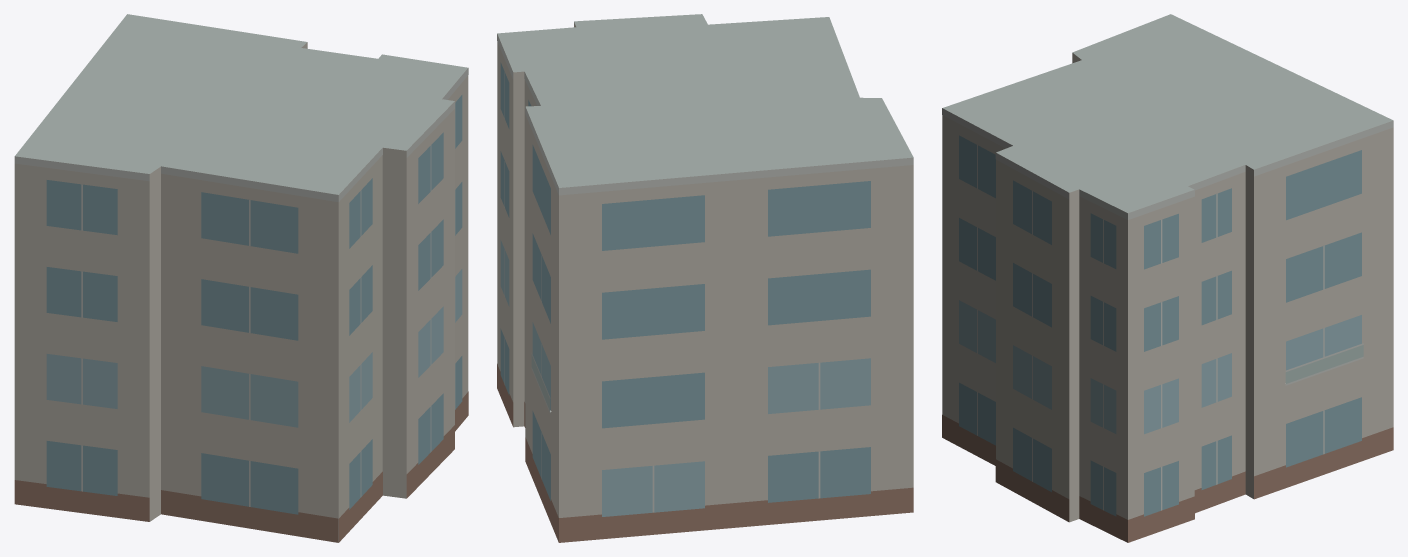
File: survey-upis-32508786.glb
3 renders of one model, left to right at view 1: azimuth 30°, elevation 25°; view 2: azimuth 150°, elevation 25°; view 3: azimuth 270°, elevation 25°, orthographic. The views are drawn at different scales.
Parts seen in each view (by area): view 1: survey-upis-32508786.tmp; view 2: survey-upis-32508786.tmp; view 3: survey-upis-32508786.tmp.
Boxes of the visible parts, bbox=[...] form: survey-upis-32508786.tmp: bbox=[14, 14, 468, 542]; survey-upis-32508786.tmp: bbox=[497, 14, 913, 542]; survey-upis-32508786.tmp: bbox=[942, 14, 1393, 542].
Size of the model in its own units: 15.18 by 11.7 by 14.53.
